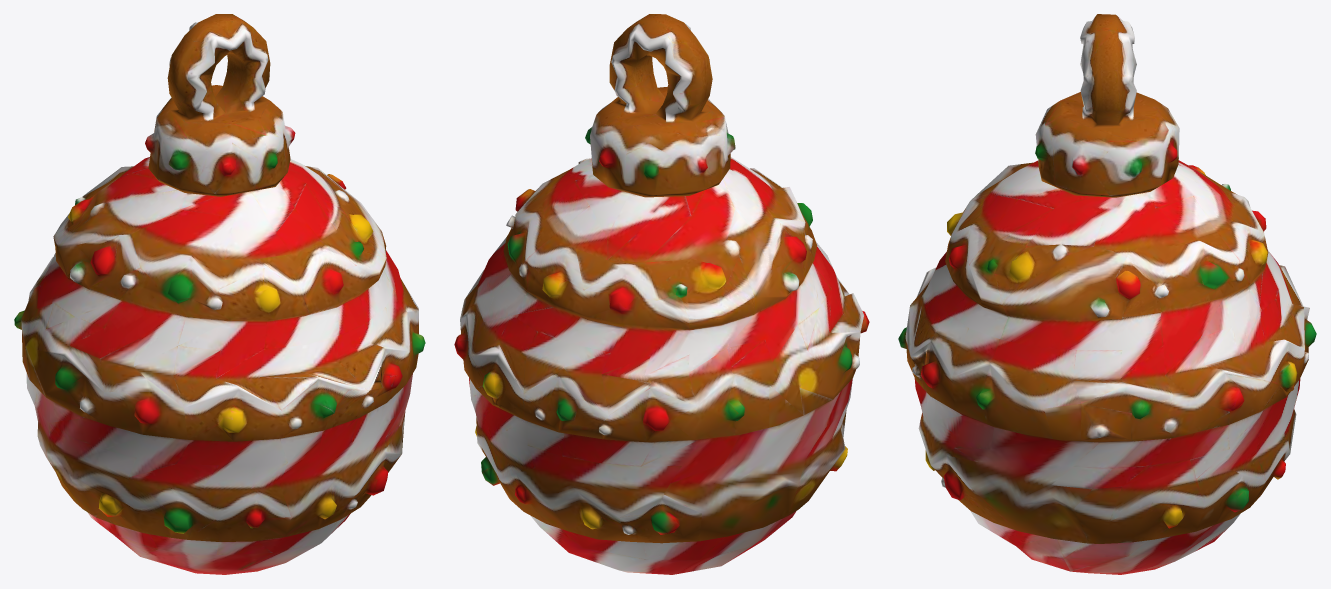
File: ornament.glb
3 views of the same model, side by side, from view 1: azimuth 30°, elevation 25°; view 2: azimuth 150°, elevation 25°; view 3: azimuth 270°, elevation 25° (orthographic).
Bounding box in the file's own units: 0.6568 × 0.9521 × 0.6704.
1 material, 1 textured.
